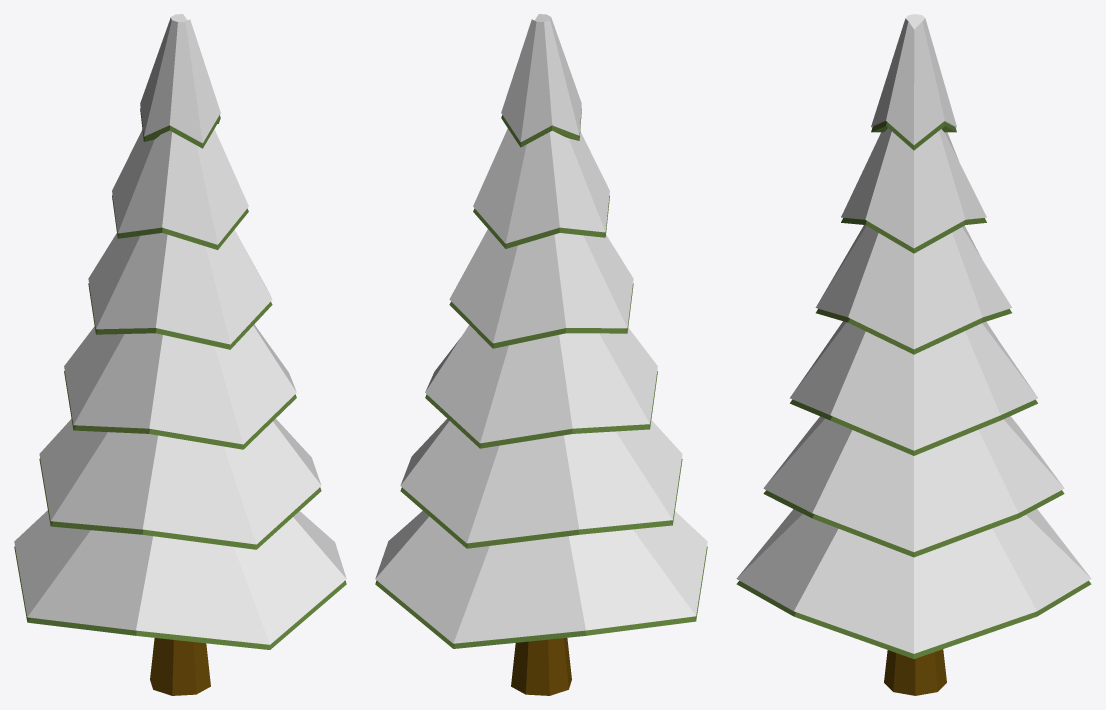
Rendered from tree_snow.gltf.
3 views of the same model, side by side, from view 1: azimuth 30°, elevation 25°; view 2: azimuth 150°, elevation 25°; view 3: azimuth 270°, elevation 25° (orthographic).
Parts seen in each view (by area): view 1: Leaf, Snow, Trunk; view 2: Leaf, Snow, Trunk; view 3: Leaf, Snow, Trunk.
Boxes of the visible parts, x1=… form: Leaf: x1=14, y1=14, x2=346, y2=644; Snow: x1=14, y1=108, x2=346, y2=649; Trunk: x1=150, y1=638, x2=210, y2=695; Leaf: x1=375, y1=14, x2=707, y2=643; Snow: x1=375, y1=109, x2=707, y2=648; Trunk: x1=511, y1=638, x2=571, y2=695; Leaf: x1=736, y1=14, x2=1091, y2=653; Snow: x1=736, y1=121, x2=1091, y2=658; Trunk: x1=884, y1=649, x2=946, y2=695.
Bounding box in the file's own units: 3.68 × 7.6 × 3.68.
